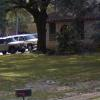Tree: (6, 0, 88, 21)
